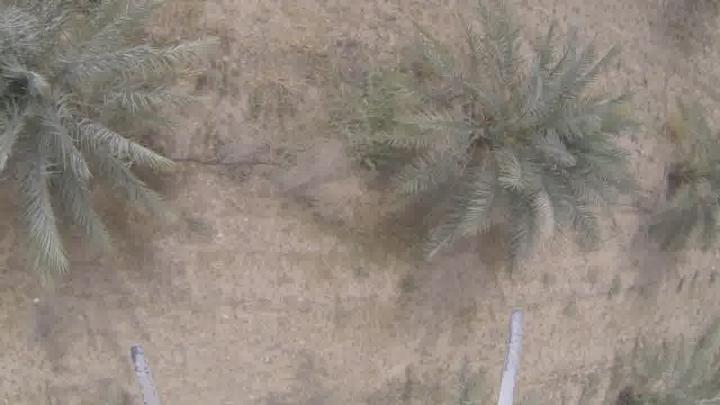Date-Palm-Crown: (423, 31, 603, 243), (1, 0, 178, 198), (682, 116, 720, 210)
